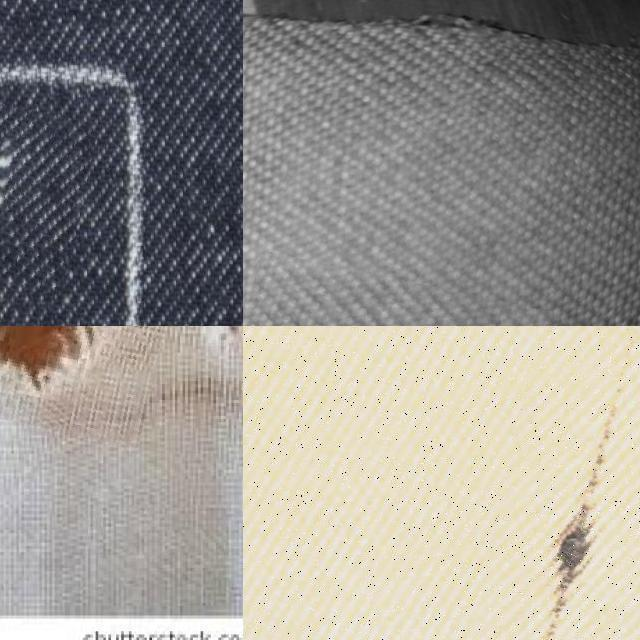other: (0, 326, 177, 439), (243, 264, 547, 326)
stains: (477, 326, 640, 640), (0, 101, 90, 289)
